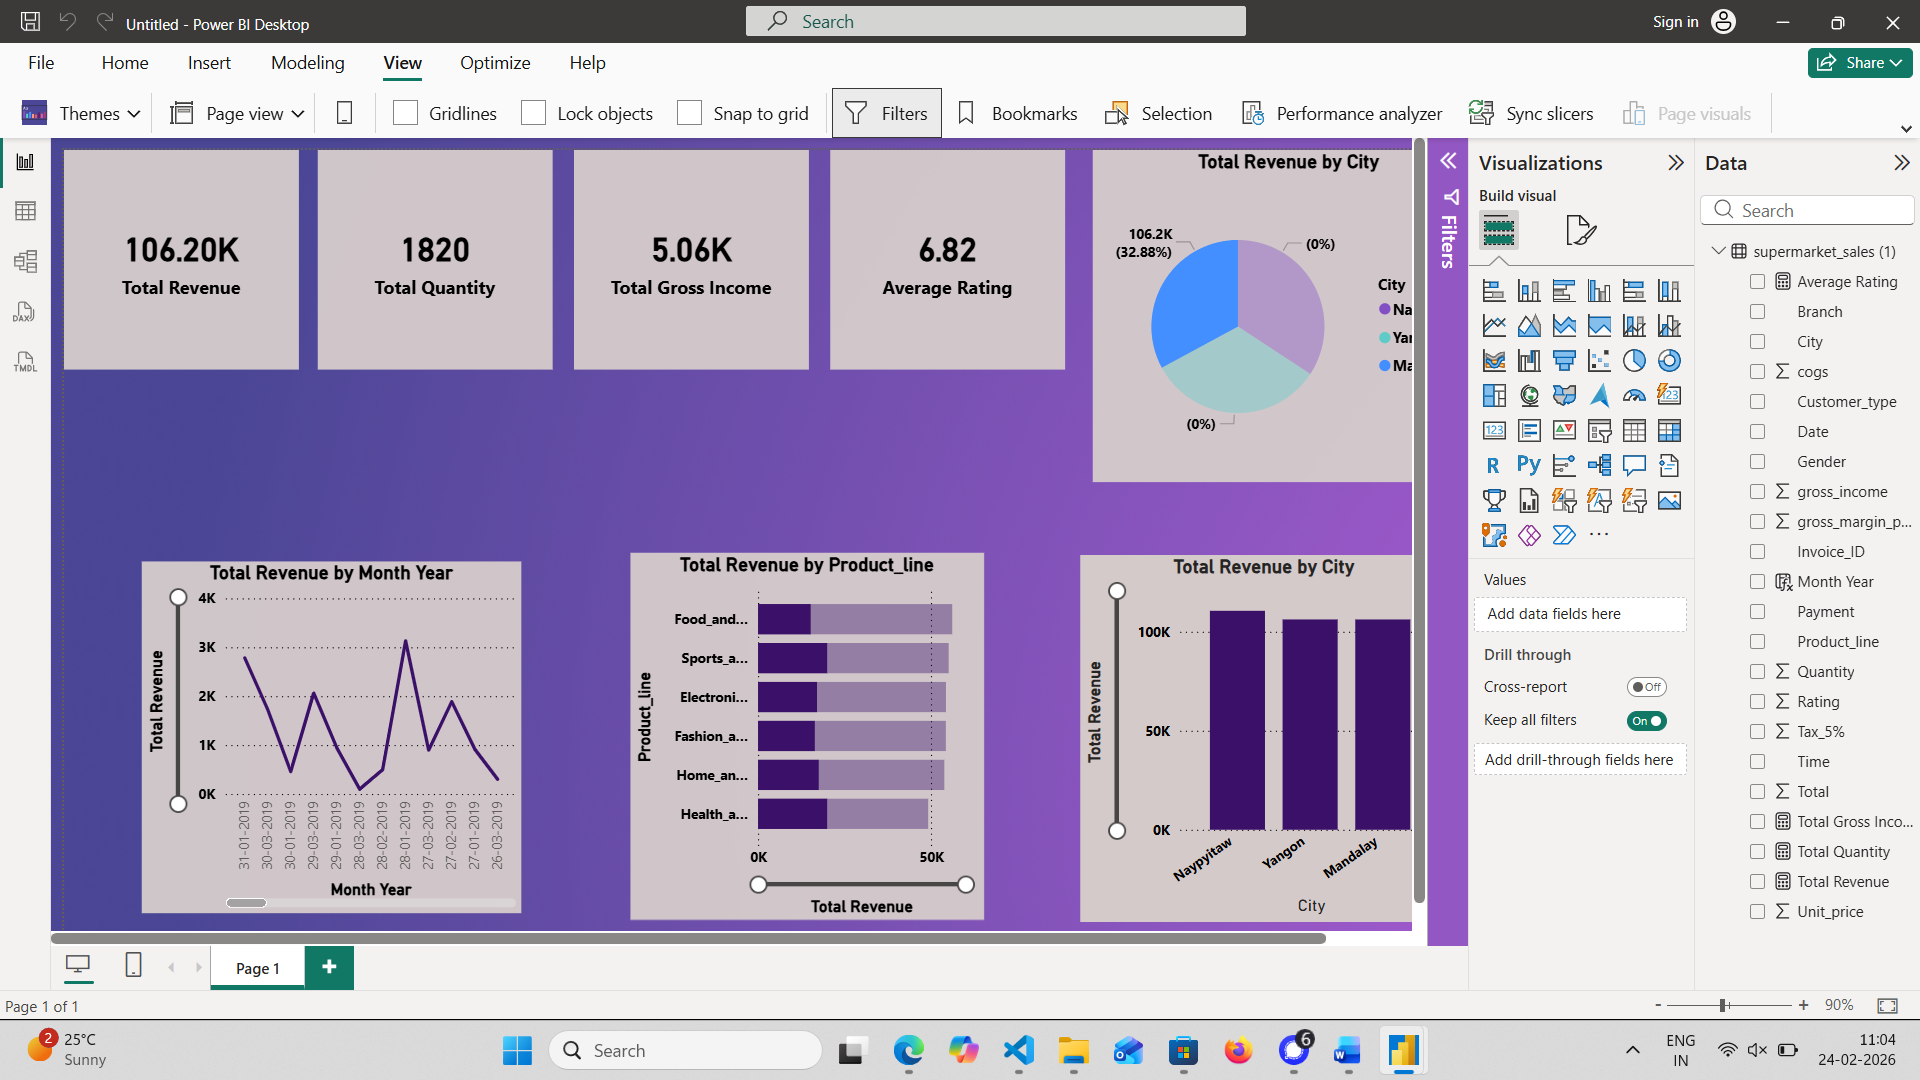

What the dashboard file says about the page in this screenshot:
{"tool":"powerbi","page":{"name":"Page 1","canvas":[1280,720],"ordinal":0},"visuals":[{"type":"card","fields":{"Values":["supermarket_sales (1).Total Revenue"]},"box":[0,0,208.6,194.9],"z":0},{"type":"card","fields":{"Values":["supermarket_sales (1).Total Quantity"]},"box":[225,0,208.6,194.9],"z":1000},{"type":"card","fields":{"Values":["supermarket_sales (1).Total Gross Income"]},"box":[452.8,0,208.6,194.9],"z":2000},{"type":"card","fields":{"Values":["supermarket_sales (1).Average Rating"]},"box":[680.6,0,208.6,194.9],"z":3000},{"type":"lineChart","fields":{"Category":["supermarket_sales (1).Month Year"],"Y":["supermarket_sales (1).Total Revenue"]},"box":[68.6,365,337.6,312.9],"z":4000},{"type":"clusteredBarChart","fields":{"Category":["supermarket_sales (1).Product_line"],"Y":["supermarket_sales (1).Total Revenue"]},"box":[503.6,358.1,314.2,326.6],"z":5000},{"type":"columnChart","fields":{"Category":["supermarket_sales (1).City"],"Y":["supermarket_sales (1).Total Revenue"]},"box":[902.9,359.5,326.6,325.2],"z":5002},{"type":"pieChart","fields":{"Y":["supermarket_sales (1).Total Revenue"],"Category":["supermarket_sales (1).City"]},"box":[913.9,0,348.5,295],"z":5003}]}

Visuals, with their boxes on the page's 1280x720 design canvas (x1, y1, x2, y2). These are canvas units, not pixel positions in the 1920x1080 screenshot, which may show the page scaled, cropped or inside an application window:
card - supermarket_sales (1).Total Revenue: pyautogui.locateOnScreen(0, 0, 209, 195)
card - supermarket_sales (1).Total Quantity: pyautogui.locateOnScreen(225, 0, 434, 195)
card - supermarket_sales (1).Total Gross Income: pyautogui.locateOnScreen(453, 0, 661, 195)
card - supermarket_sales (1).Average Rating: pyautogui.locateOnScreen(681, 0, 889, 195)
lineChart - supermarket_sales (1).Month Year x supermarket_sales (1).Total Revenue: pyautogui.locateOnScreen(69, 365, 406, 678)
clusteredBarChart - supermarket_sales (1).Product_line x supermarket_sales (1).Total Revenue: pyautogui.locateOnScreen(504, 358, 818, 685)
columnChart - supermarket_sales (1).City x supermarket_sales (1).Total Revenue: pyautogui.locateOnScreen(903, 360, 1230, 685)
pieChart - supermarket_sales (1).Total Revenue x supermarket_sales (1).City: pyautogui.locateOnScreen(914, 0, 1262, 295)
